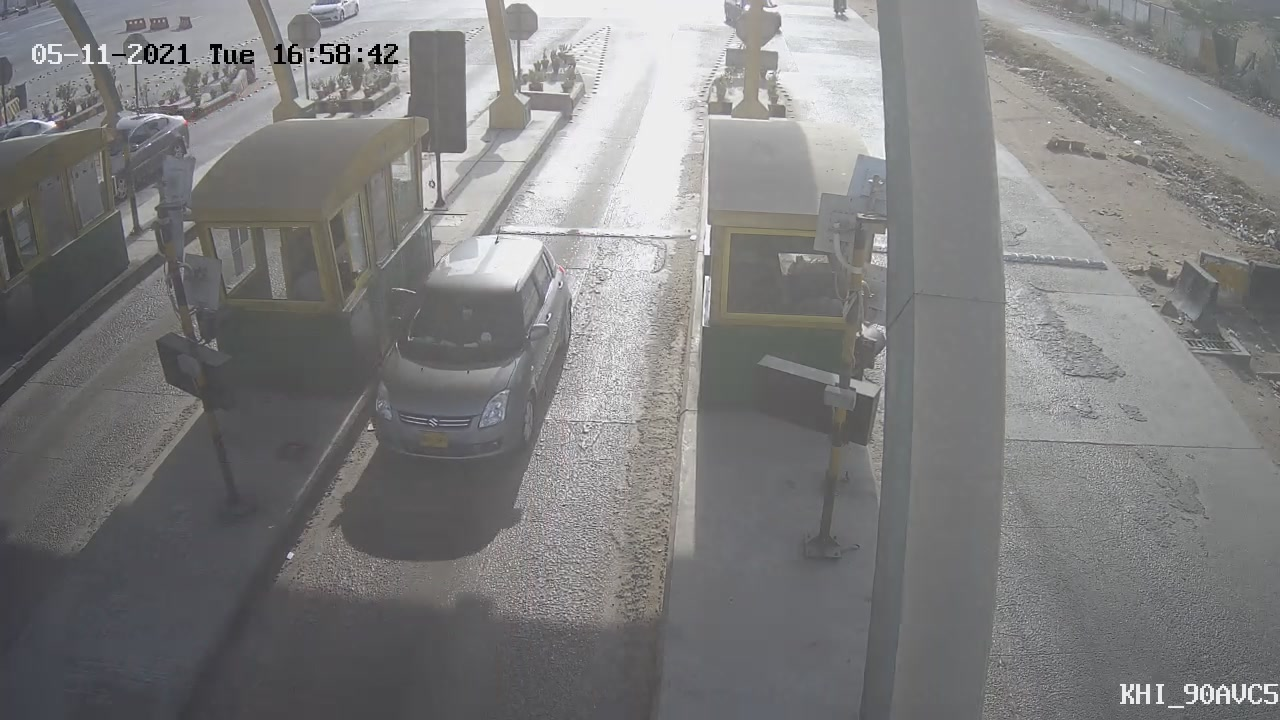F1: (346, 217, 594, 486)
